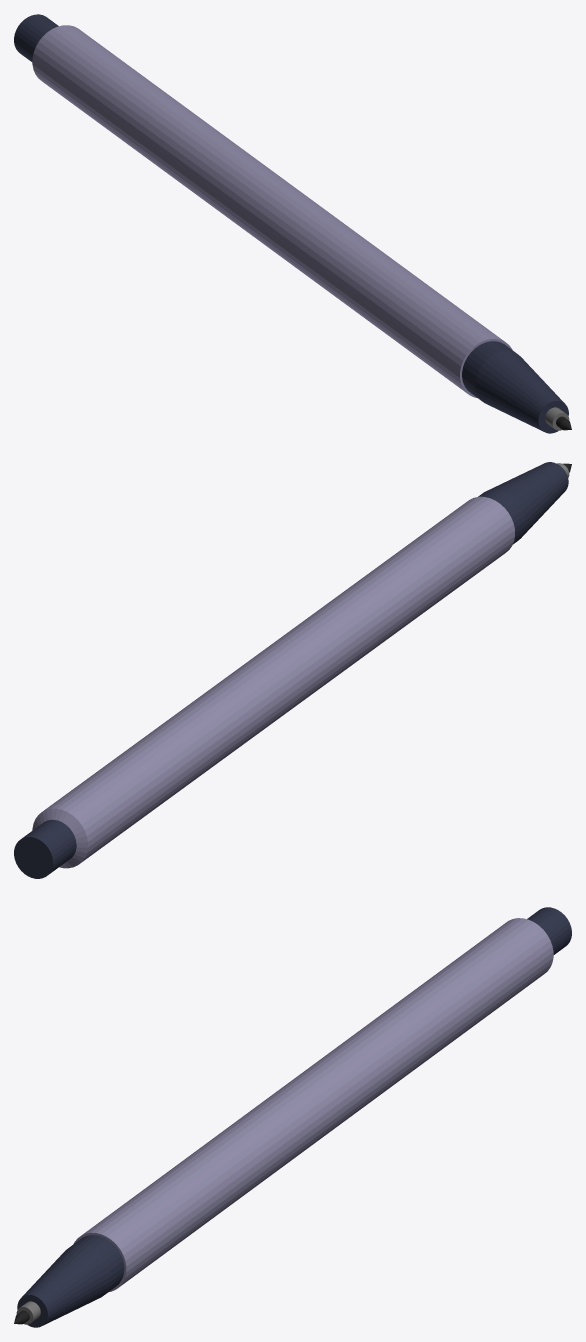
The model's file is pen.fbx.
3 renders of one model, top to bottom at view 1: azimuth 30°, elevation 25°; view 2: azimuth 150°, elevation 25°; view 3: azimuth 330°, elevation 25°, orthographic.
Visible parts, largest first — view 1: pen; view 2: pen; view 3: pen.
Part boxes in pixels (x1,y1,x2,y2): pen: (14,14,571,433); pen: (14,462,571,878); pen: (14,907,571,1327).
Size of the model in its own units: 0.881 by 0.8931 by 14.65.
